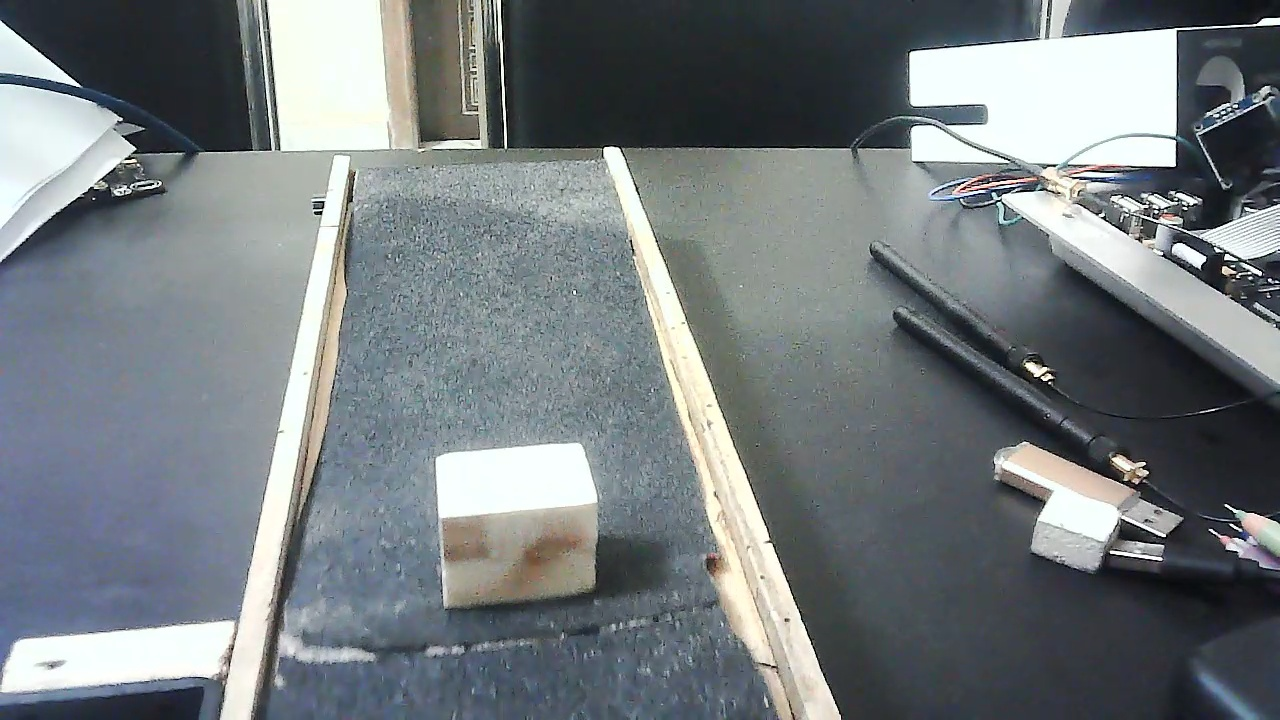Medium: (433, 443, 599, 609)
